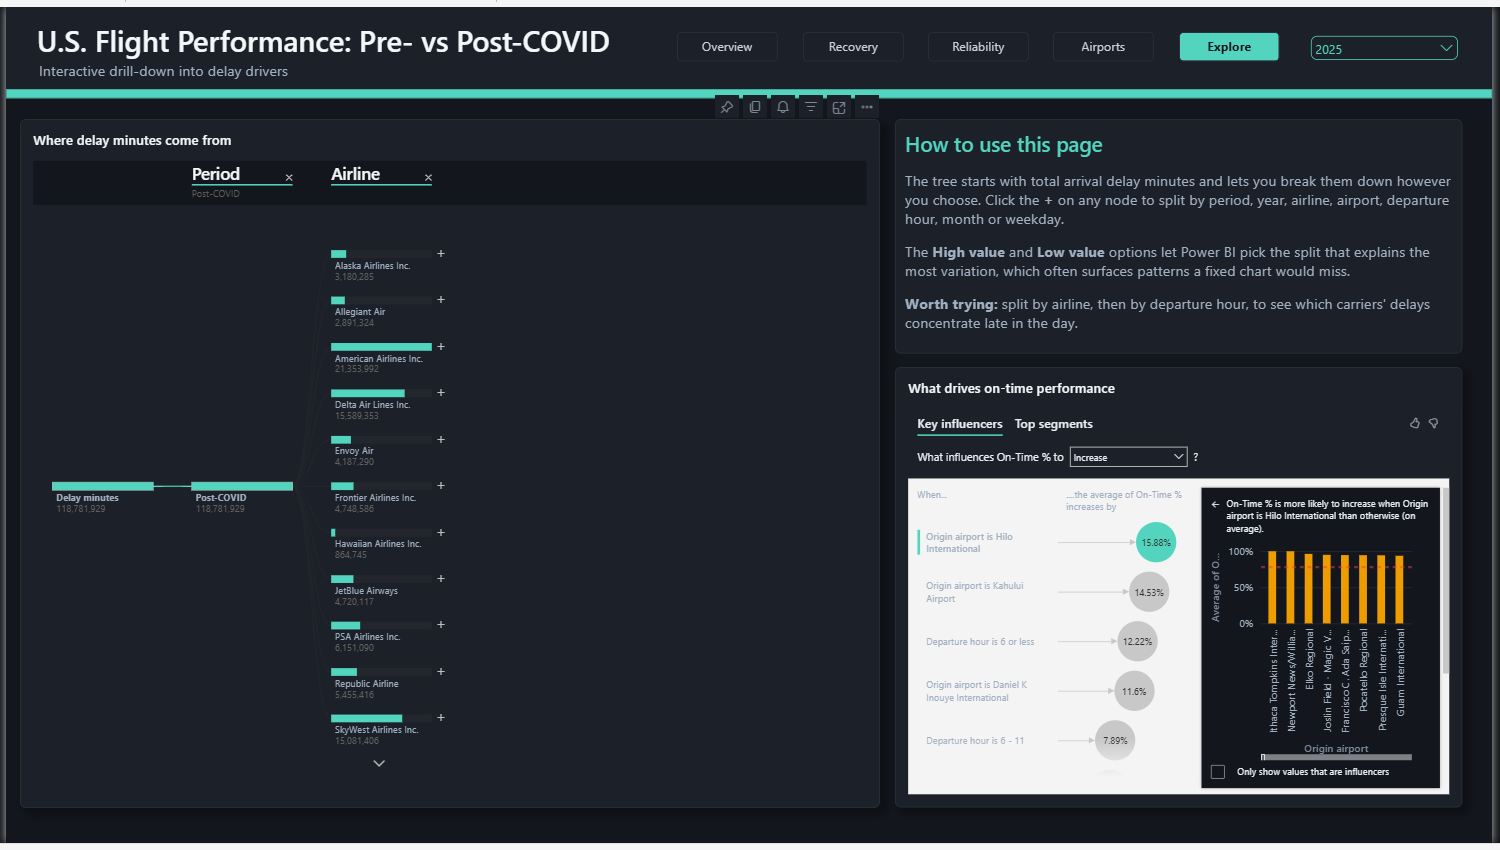

Layout of this report page (visuals, bound fields, positions):
{"tool":"powerbi","page":{"name":"Explore","canvas":[1920,1080],"ordinal":4},"visuals":[{"type":"shape","box":[0,0,1920,110],"z":0},{"type":"shape","box":[0,106,1920,12],"z":1000},{"type":"textbox","box":[39.9,18.6,1013.5,66.5],"z":2000},{"type":"textbox","box":[42,70,900,30],"z":3000},{"type":"slicer","fields":{"Values":["dim_date.year"]},"box":[1681.2,31.9,199.5,45.2],"z":4000},{"type":"actionButton","box":[867.2,31.9,130,38],"z":5000},{"type":"actionButton","box":[1029.1,31.9,130,38],"z":6000},{"type":"actionButton","box":[1353,31.9,130,38],"z":7000},{"type":"actionButton","box":[1191.1,31.9,130,38],"z":8000},{"type":"decompositionTreeVisual","title":"Where delay minutes come from","fields":{"Analyze":["_Measures.Total Arrival Delay Minutes"],"ExplainBy":["dim_date.covid_period","dim_airline.airline_name","dim_date.year","dim_airport.airport_name","fact_flights.scheduled_departure_hour","dim_date.month_name","dim_date.day_name"]},"box":[18.6,145,1110.6,889.8],"z":9000},{"type":"textbox","box":[1147.8,145,732.9,303.3],"z":10000},{"type":"keyDriversVisual","title":"What drives on-time performance","fields":{"ExplainBy":["dim_airline.airline_name","dim_airport.airport_name","fact_flights.scheduled_departure_hour","dim_date.day_name","dim_date.month_name"],"Target":["_Measures.On-Time %"]},"box":[1147.8,465.5,732.9,569.3],"z":11000},{"type":"actionButton","box":[1514.9,31.9,130,38],"z":12000}]}

Visuals, with their boxes on the page's 1920x1080 design canvas (x1, y1, x2, y2). These are canvas units, not pixel positions in the 1500x850 screenshot, which may show the page scaled, cropped or inside an application window:
shape: [x1=0, y1=0, x2=1920, y2=110]
shape: [x1=0, y1=106, x2=1920, y2=118]
textbox: [x1=40, y1=19, x2=1053, y2=85]
textbox: [x1=42, y1=70, x2=942, y2=100]
slicer - dim_date.year: [x1=1681, y1=32, x2=1881, y2=77]
actionButton: [x1=867, y1=32, x2=997, y2=70]
actionButton: [x1=1029, y1=32, x2=1159, y2=70]
actionButton: [x1=1353, y1=32, x2=1483, y2=70]
actionButton: [x1=1191, y1=32, x2=1321, y2=70]
"Where delay minutes come from" decompositionTreeVisual: [x1=19, y1=145, x2=1129, y2=1035]
textbox: [x1=1148, y1=145, x2=1881, y2=448]
"What drives on-time performance" keyDriversVisual: [x1=1148, y1=466, x2=1881, y2=1035]
actionButton: [x1=1515, y1=32, x2=1645, y2=70]
